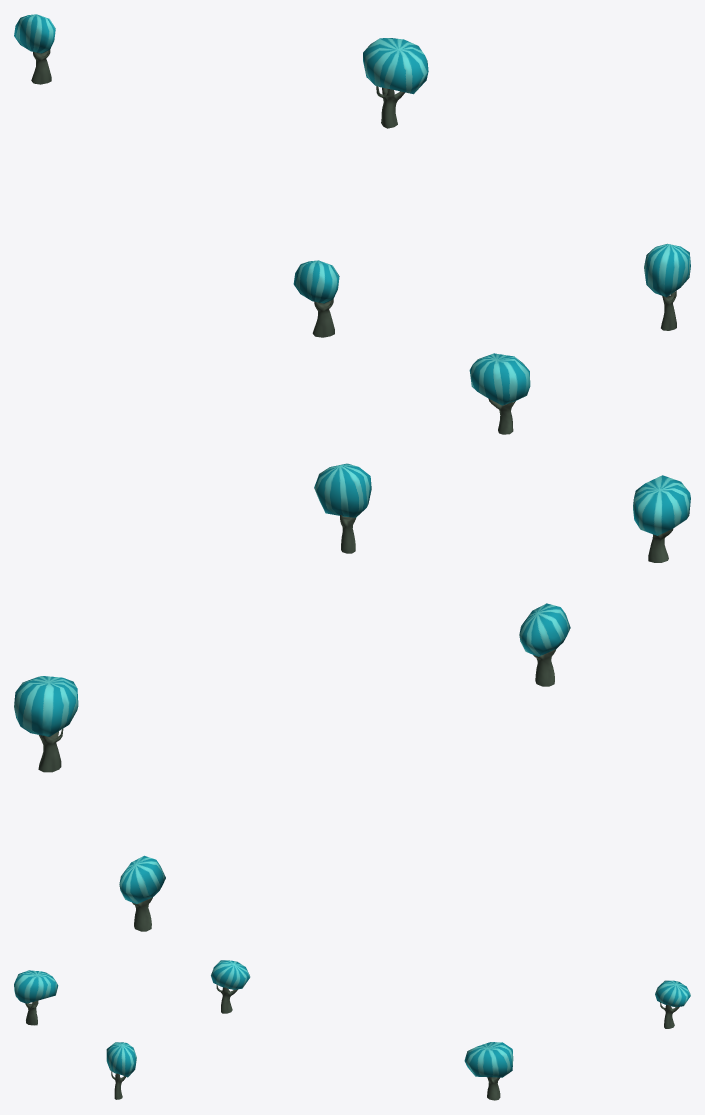
The model's file is treeD.fbx.
3 renders of one model, top to bottom at view 1: azimuth 30°, elevation 25°; view 2: azimuth 150°, elevation 25°; view 3: azimuth 270°, elevation 25°, orthographic. The views are drawn at different scales.
Parts seen in each view (by area): view 1: treeD; view 2: treeD; view 3: treeD.
Boxes of the visible parts, x1,y1,x2,y2 form: treeD: (14,14,690,434); treeD: (14,463,690,931); treeD: (14,960,690,1100).
Size of the model in its own units: 1023 by 250 by 2816.
